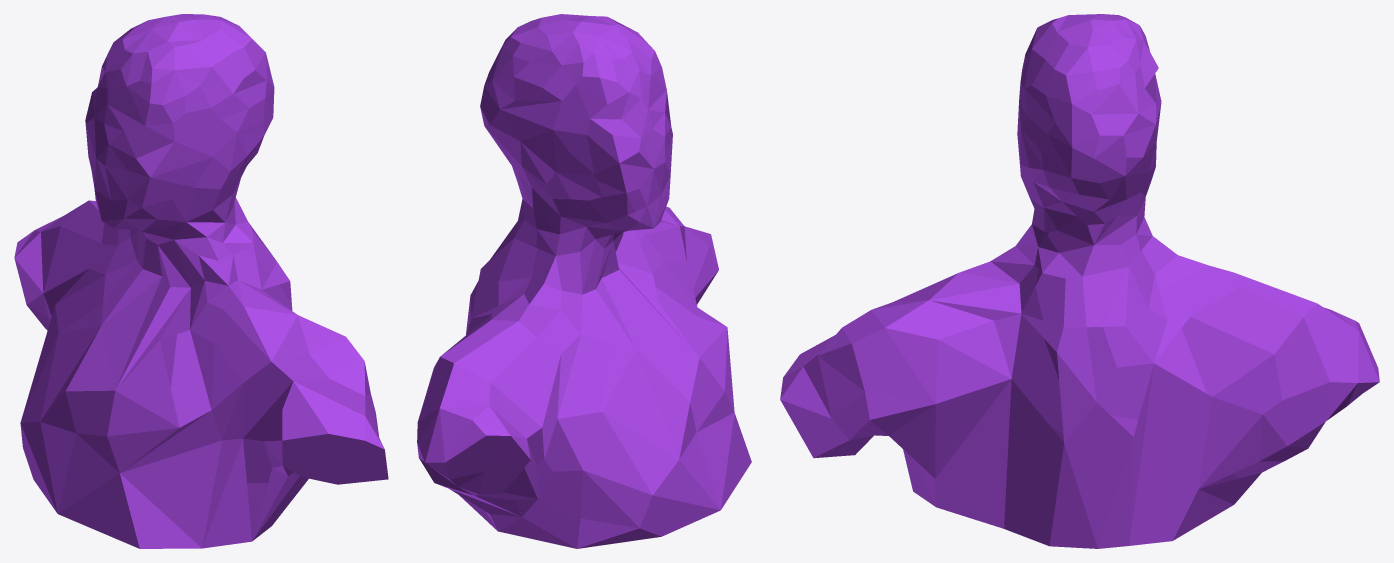
File: Statue.001_chunks.fbx
3 views of the same model, side by side, from view 1: azimuth 30°, elevation 25°; view 2: azimuth 150°, elevation 25°; view 3: azimuth 270°, elevation 25° (orthographic). The views are drawn at different scales.
Parts seen in each view (by area): view 1: Statue.001_5, Statue.001_2, Statue.001_3, Statue.001_0, Statue.001_4, Statue.001_6, Statue.001_1; view 2: Statue.001_0, Statue.001_2, Statue.001_3, Statue.001_1, Statue.001_5, Statue.001_6; view 3: Statue.001_1, Statue.001_4, Statue.001_0, Statue.001_5, Statue.001_6, Statue.001_2.
Boxes of the visible parts, box(x1,y1,x2,y2) form: Statue.001_5: box(166, 263, 388, 492); Statue.001_2: box(85, 14, 268, 255); Statue.001_3: box(20, 282, 194, 548); Statue.001_0: box(14, 198, 153, 423); Statue.001_4: box(165, 472, 308, 548); Statue.001_6: box(134, 237, 292, 310); Statue.001_1: box(226, 56, 291, 303); Statue.001_0: box(417, 162, 653, 548); Statue.001_2: box(502, 14, 672, 243); Statue.001_3: box(495, 275, 751, 548); Statue.001_1: box(466, 43, 541, 334); Statue.001_5: box(623, 206, 728, 343); Statue.001_6: box(596, 232, 633, 302); Statue.001_1: box(1035, 87, 1206, 421); Statue.001_4: box(894, 388, 1245, 548); Statue.001_0: box(1137, 156, 1379, 491); Statue.001_5: box(780, 248, 1012, 458); Statue.001_6: box(988, 240, 1235, 481); Statue.001_2: box(1017, 14, 1161, 246).
Size of the model in its own units: 183 by 342 by 389.
